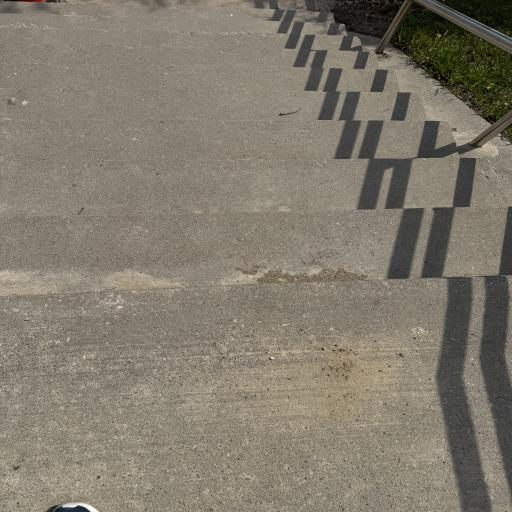Stairs: (0, 1, 512, 512)
